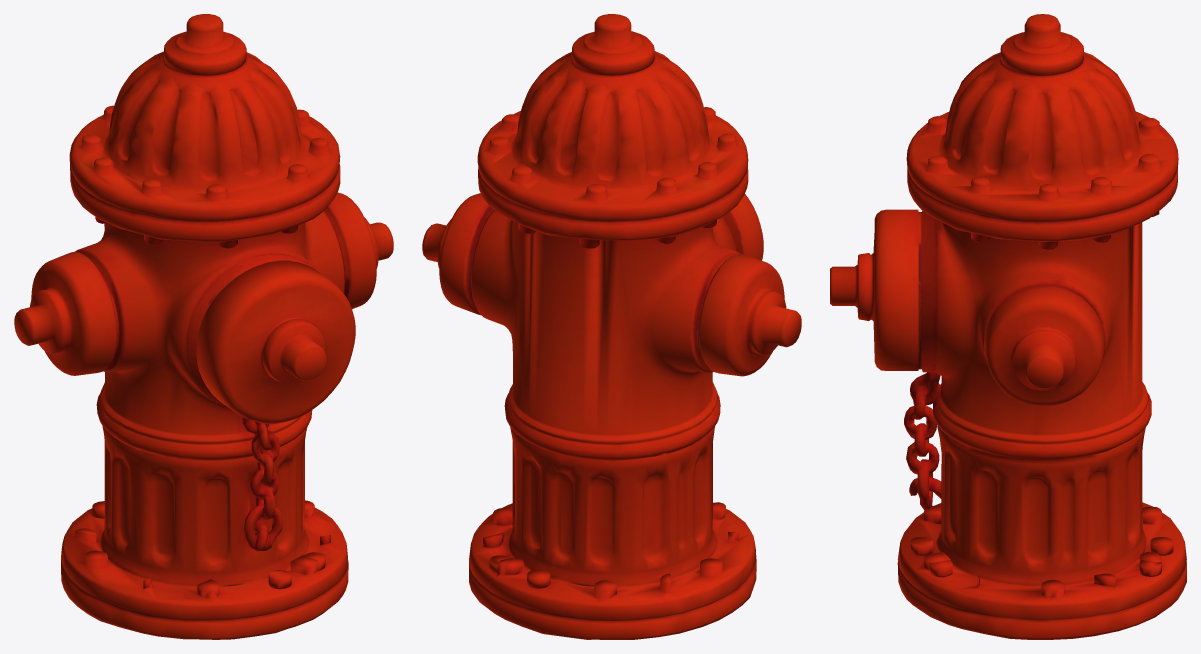
The model's file is fire_hydrant_ba0175c1_v2.glb.
3 renders of one model, left to right at view 1: azimuth 30°, elevation 25°; view 2: azimuth 150°, elevation 25°; view 3: azimuth 270°, elevation 25°, orthographic.
Parts seen in each view (by area): view 1: material; view 2: material; view 3: material.
Part boxes in pixels (x1,y1,x2,y2): material: [14, 14, 393, 639]; material: [422, 14, 801, 639]; material: [830, 14, 1186, 639].
Size of the model in its own units: 1.28 by 1.9 by 1.09.
1 material, 1 textured.
